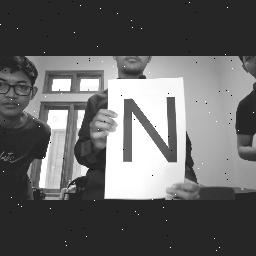n: (116, 89, 180, 167)
